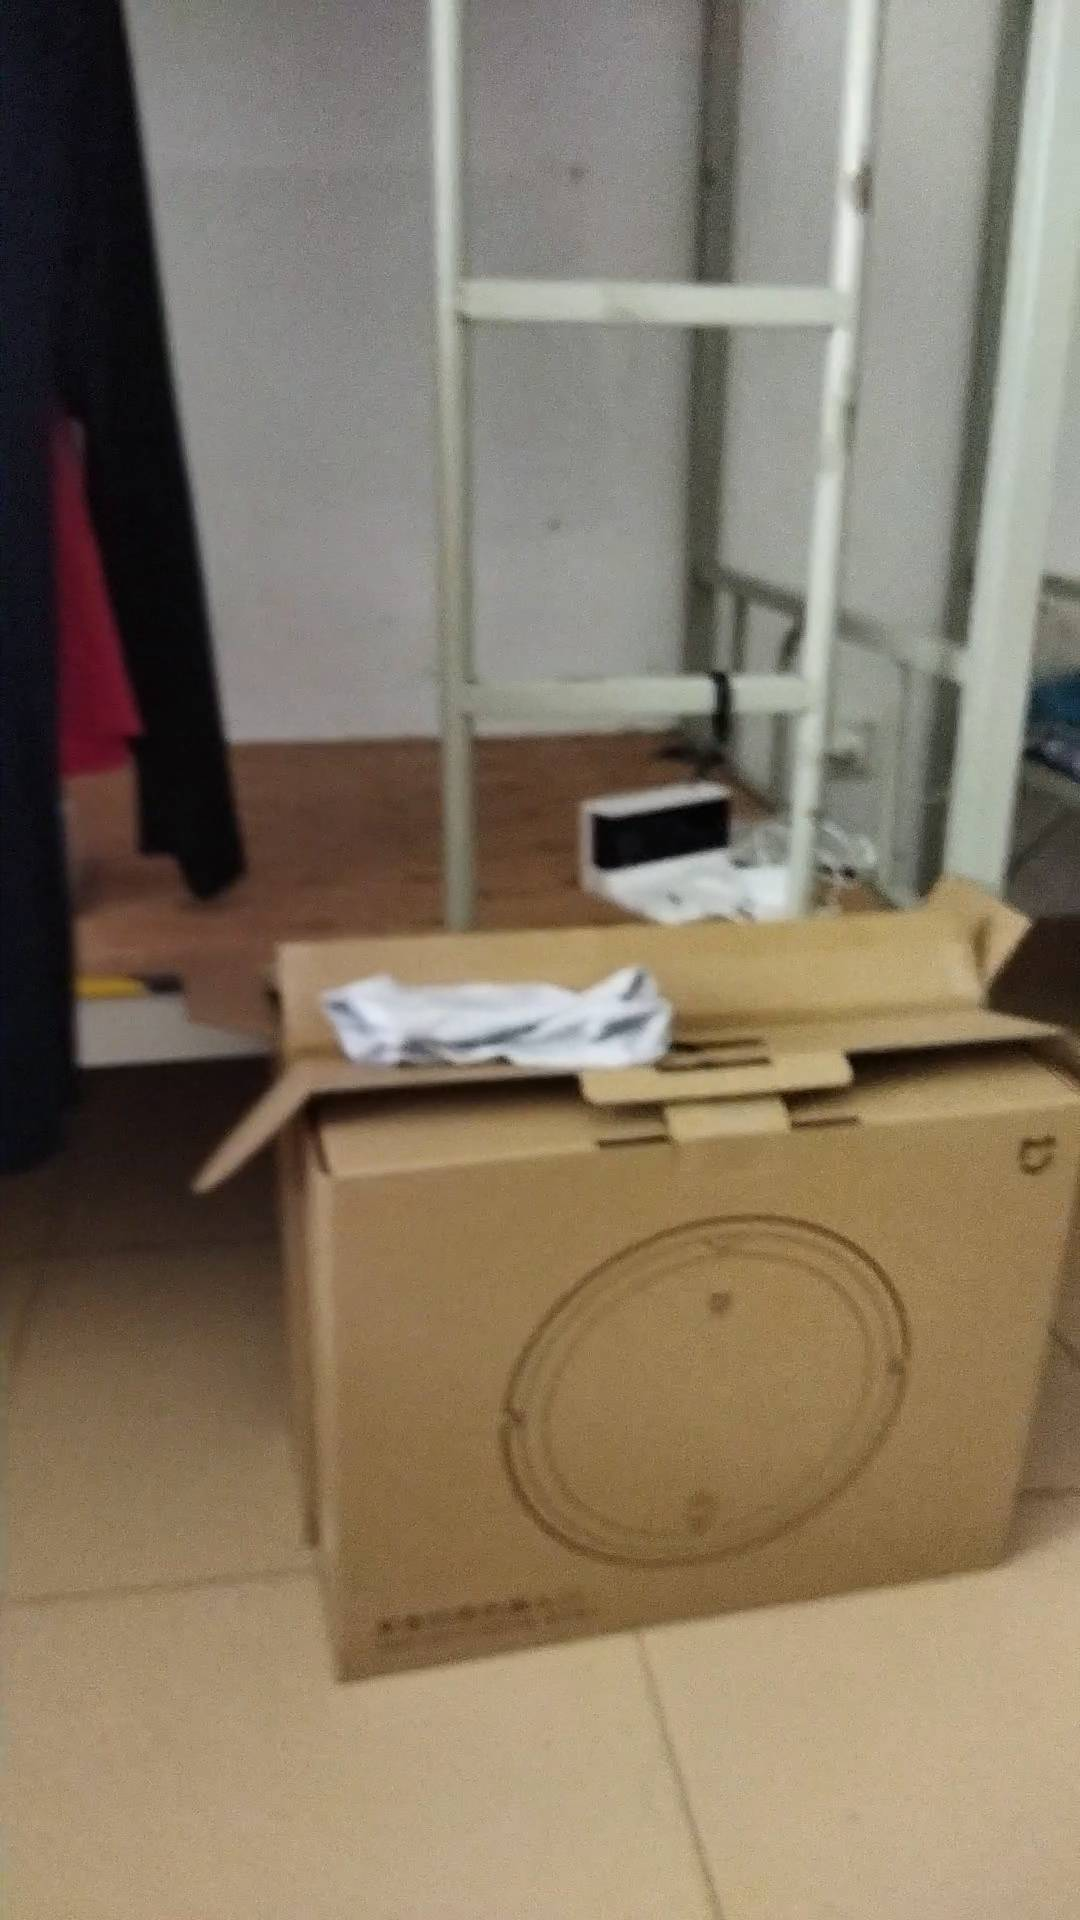recharge seat: (582, 783, 760, 927)
